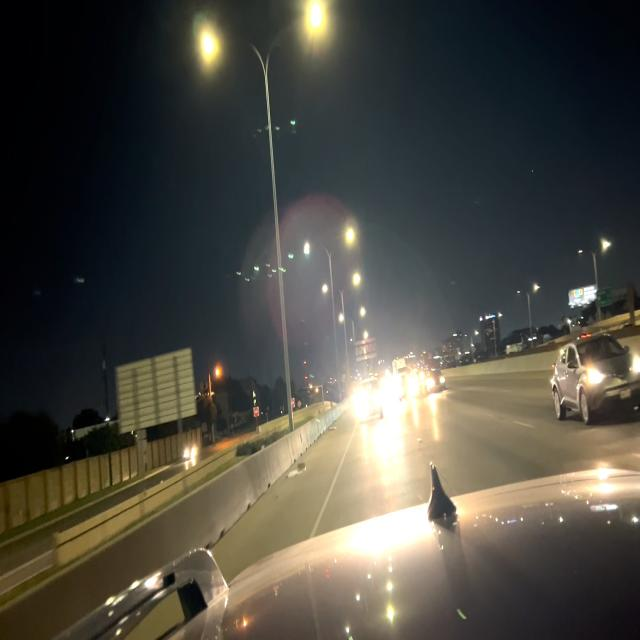back-of-sign: (113, 348, 196, 435), (354, 333, 378, 363)
